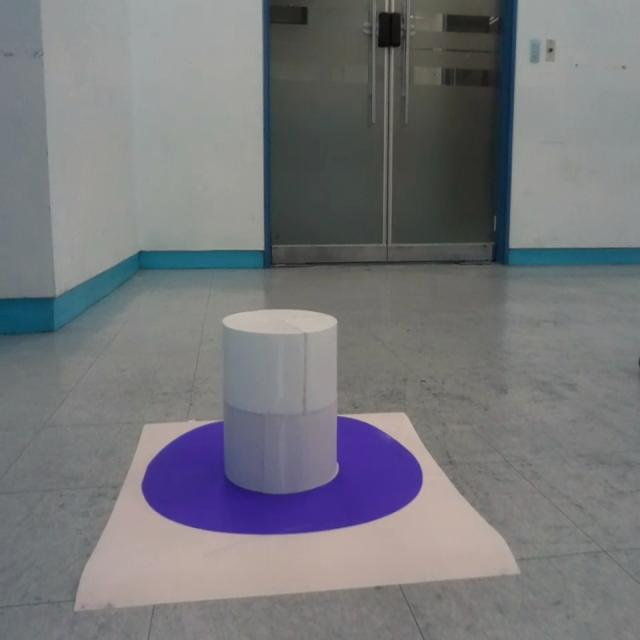cylinder: (220, 308, 340, 494)
